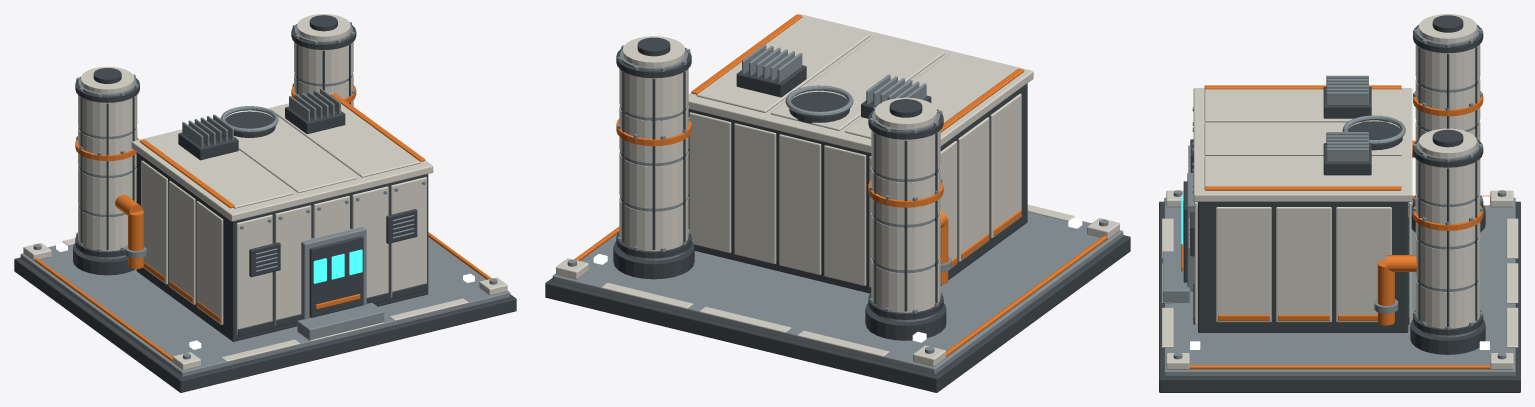
The model's file is SM_UraniumProcessor_Refined.fbx.
3 renders of one model, left to right at view 1: azimuth 30°, elevation 25°; view 2: azimuth 150°, elevation 25°; view 3: azimuth 270°, elevation 25°, orthographic. The views are drawn at different scales.
Parts seen in each view (by area): view 1: SM_UraniumProcessor_Refined; view 2: SM_UraniumProcessor_Refined; view 3: SM_UraniumProcessor_Refined.
Part boxes in pixels (x1,y1,x2,y2): SM_UraniumProcessor_Refined: (14,14,516,392); SM_UraniumProcessor_Refined: (545,14,1130,392); SM_UraniumProcessor_Refined: (1159,14,1520,392).
Bounding box in the file's own units: 492 × 422 × 290.
